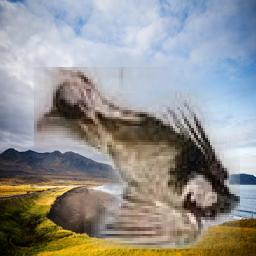Sparrow: (34, 67, 240, 249)
